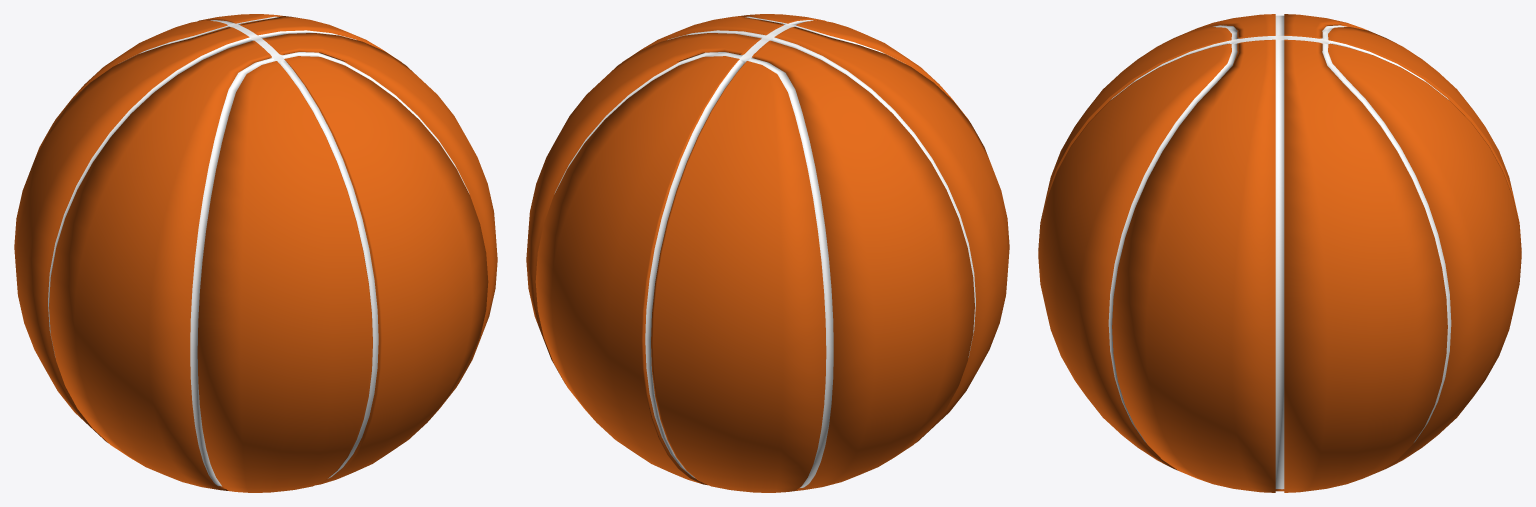
File: Basketball_OBJ copy.dae
3 views of the same model, side by side, from view 1: azimuth 30°, elevation 25°; view 2: azimuth 150°, elevation 25°; view 3: azimuth 270°, elevation 25° (orthographic).
Parts seen in each view (by area): view 1: objMesh; view 2: objMesh; view 3: objMesh.
Boxes of the visible parts, x1,y1,x2,y2 form: objMesh: (14,14,497,492); objMesh: (526,14,1009,492); objMesh: (1038,14,1521,492).
Size of the model in its own units: 520 by 512 by 520.
2 materials, 2 textured.
